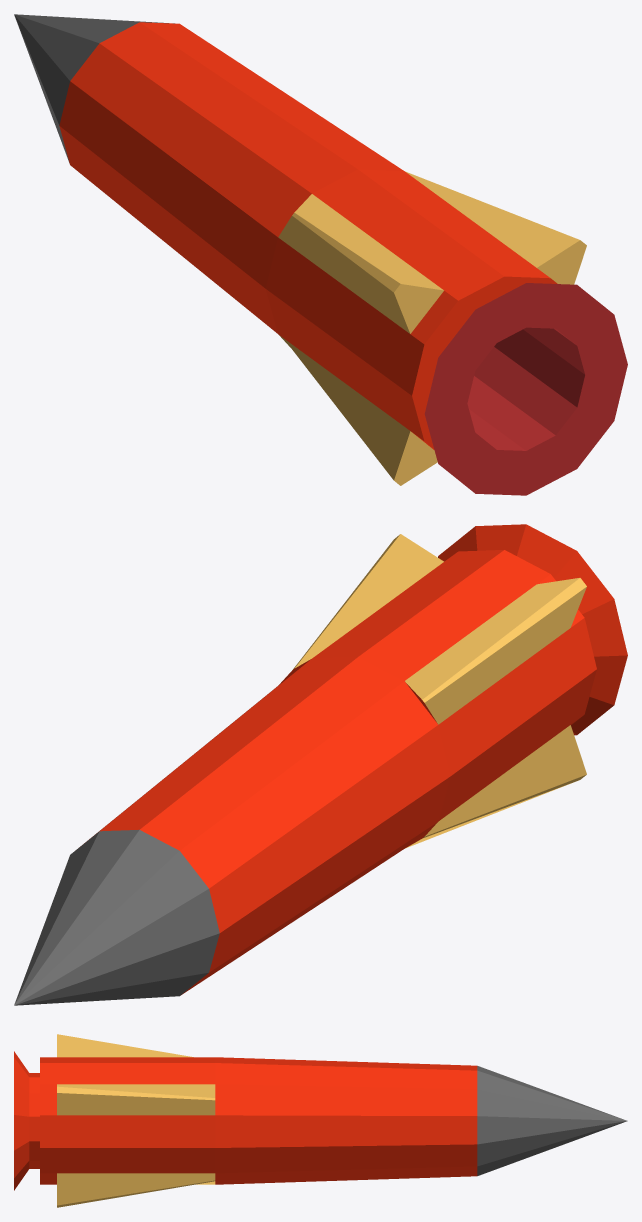
File: Projectile.fbx
3 views of the same model, one above another, from view 1: azimuth 30°, elevation 25°; view 2: azimuth 150°, elevation 25°; view 3: azimuth 270°, elevation 25° (orthographic). The views are drawn at different scales.
Parts seen in each view (by area): view 1: Projectile; view 2: Projectile; view 3: Projectile.
Boxes of the visible parts, box(x1,y1,x2,y2) form: Projectile: box(14, 14, 627, 495); Projectile: box(14, 524, 627, 1005); Projectile: box(14, 1034, 627, 1207).
Size of the model in its own units: 0.2712 by 0.2712 by 1.18.
